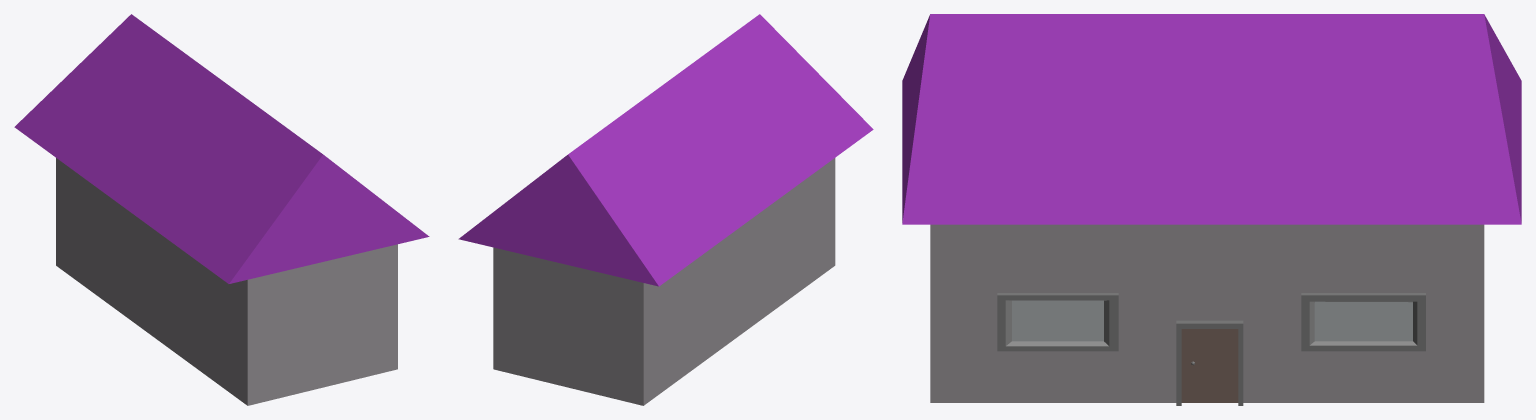
The model's file is Small 2.fbx.
3 views of the same model, side by side, from view 1: azimuth 30°, elevation 25°; view 2: azimuth 150°, elevation 25°; view 3: azimuth 270°, elevation 25° (orthographic). The views are drawn at different scales.
Parts seen in each view (by area): view 1: pCube2; view 2: pCube2; view 3: pCube2.
Boxes of the visible parts, x1=… form: pCube2: x1=14, y1=14, x2=429, y2=405; pCube2: x1=458, y1=14, x2=873, y2=405; pCube2: x1=902, y1=14, x2=1521, y2=405.
Bounding box in the file's own units: 7.99 × 8.86 × 14.79.
